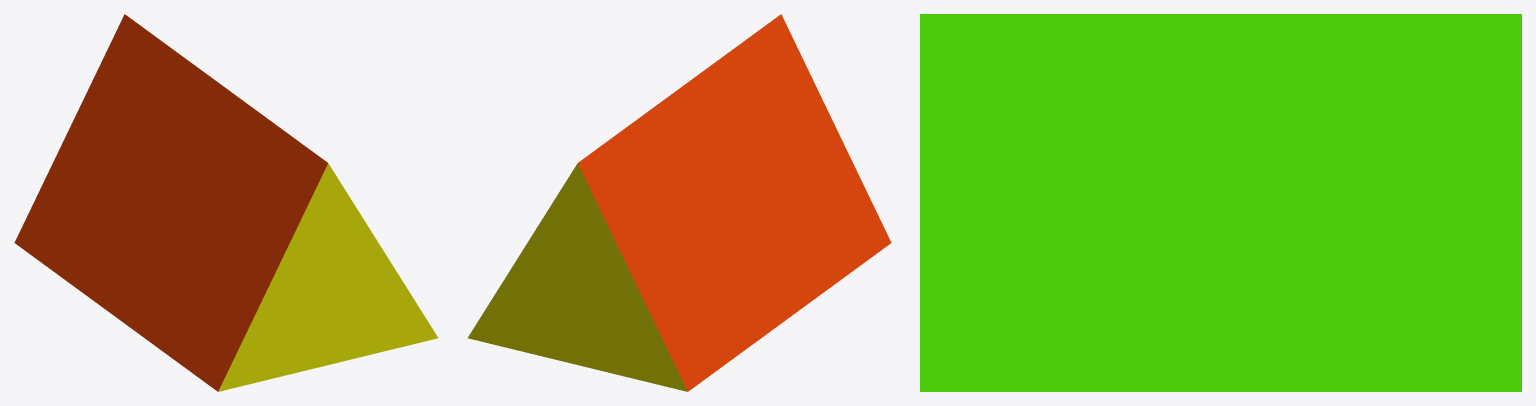
File: e-triangle-v3.gltf
The picture shows the model from 3 angles, left to right: view 1: azimuth 30°, elevation 25°; view 2: azimuth 150°, elevation 25°; view 3: azimuth 270°, elevation 25°; orthographic projection. The views are drawn at different scales.
Visible parts, largest first — view 1: Polygon.1-one, Polygon.1-sides; view 2: Polygon.1-one, Polygon.1-sides; view 3: Polygon.1-two.
Boxes of the visible parts, x1=… form: Polygon.1-one: x1=14, y1=14, x2=327, y2=391; Polygon.1-sides: x1=218, y1=163, x2=438, y2=391; Polygon.1-one: x1=578, y1=14, x2=891, y2=391; Polygon.1-sides: x1=467, y1=163, x2=687, y2=391; Polygon.1-two: x1=920, y1=14, x2=1521, y2=391.
Bounding box in the file's own units: 100 × 87.56 × 160.
